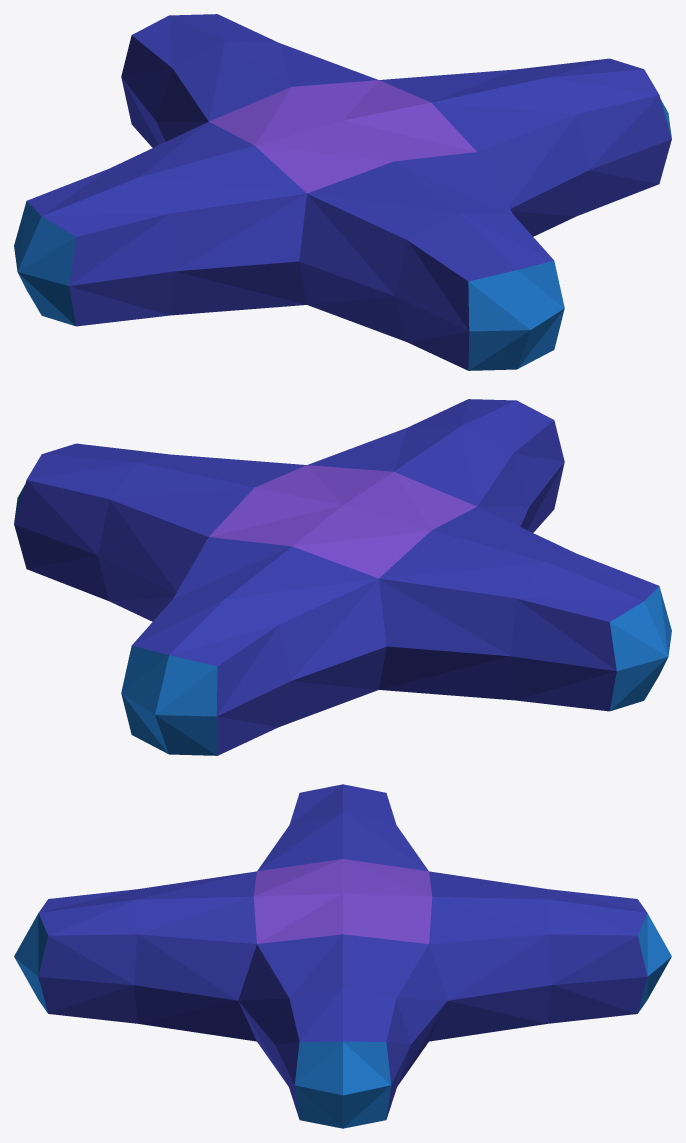
Rendered from station3.dae.
The picture shows the model from 3 angles, top to bottom: view 1: azimuth 30°, elevation 25°; view 2: azimuth 150°, elevation 25°; view 3: azimuth 270°, elevation 25°; orthographic projection. The views are drawn at different scales.
Visible parts, largest first — view 1: Cube; view 2: Cube; view 3: Cube.
Boxes of the visible parts, x1,y1,x2,y2 form: Cube: (14,14,671,370); Cube: (14,399,671,755); Cube: (14,784,671,1128).
Bounding box in the file's own units: 9.34 × 9.34 × 1.98.
